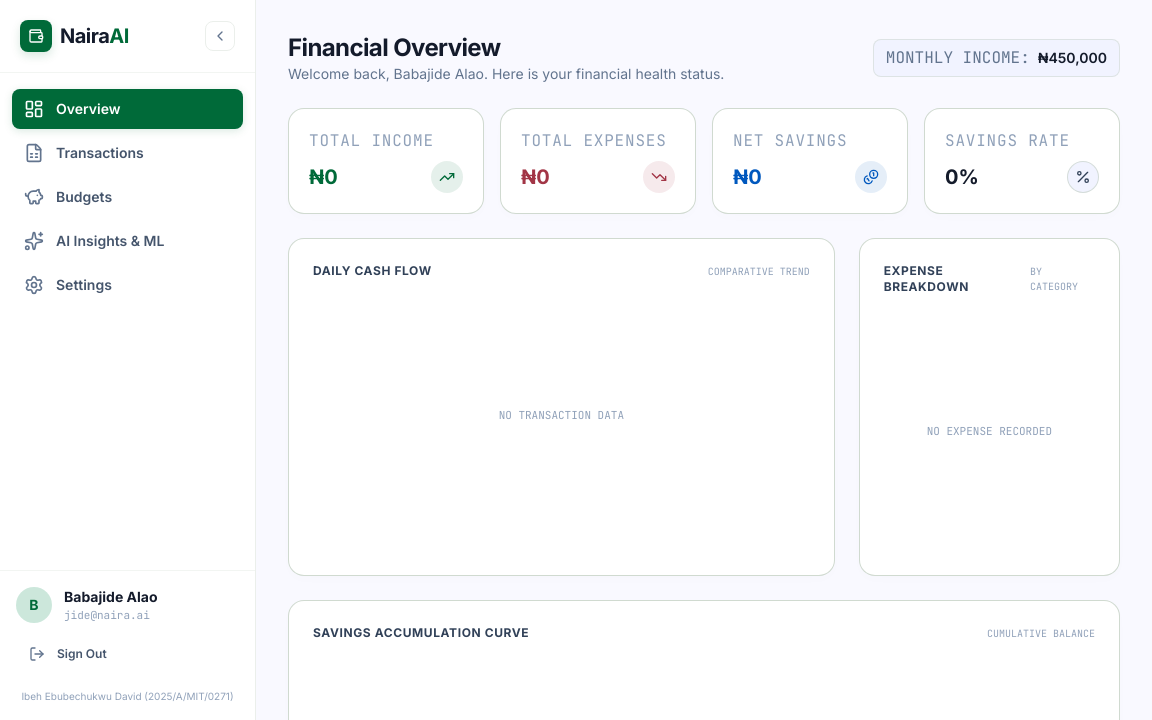
Scenario: Budgets tab › deletes a budget
expect the heading "Financial Overview" is shown: met, box [288,33,500,62]
Click the button "Budgets". click: coordinates (128, 197)
box: [12,177,243,217]
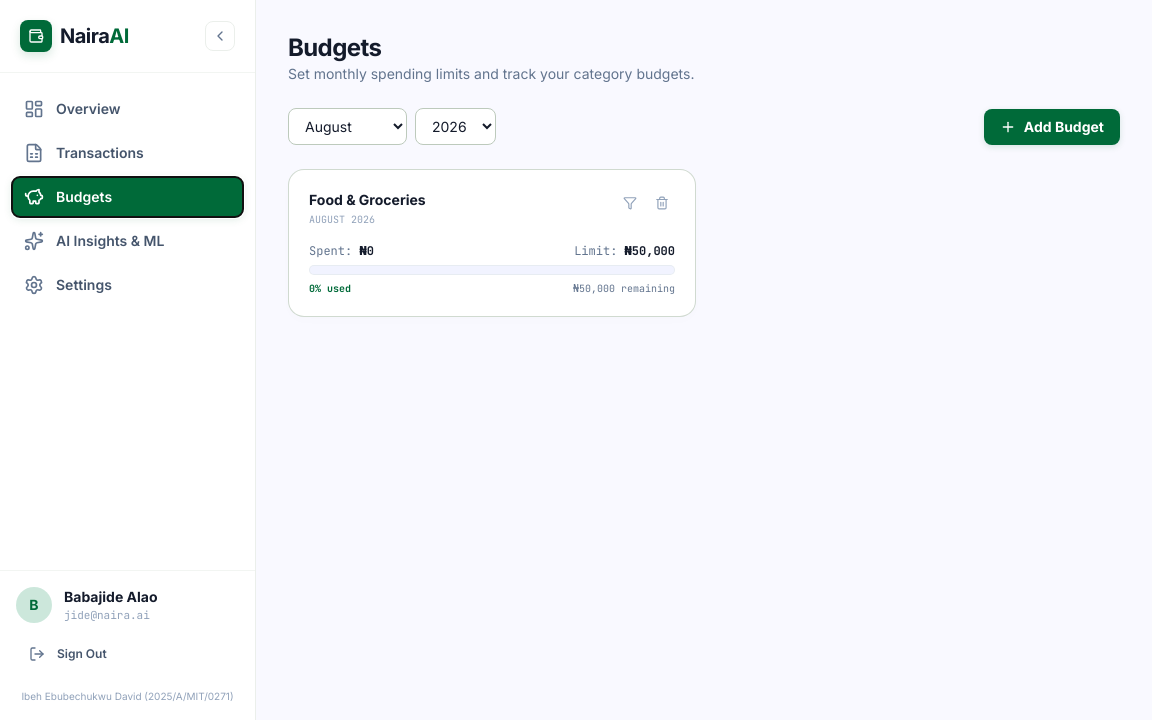
expect the button "Add Budget" is shown: met, box [984,108,1120,144]
expect the text "Food & Groceries" is shown: met, box [309,190,426,210]
Click the button titled "Delete". click: coordinates (662, 203)
box: [649,190,675,216]
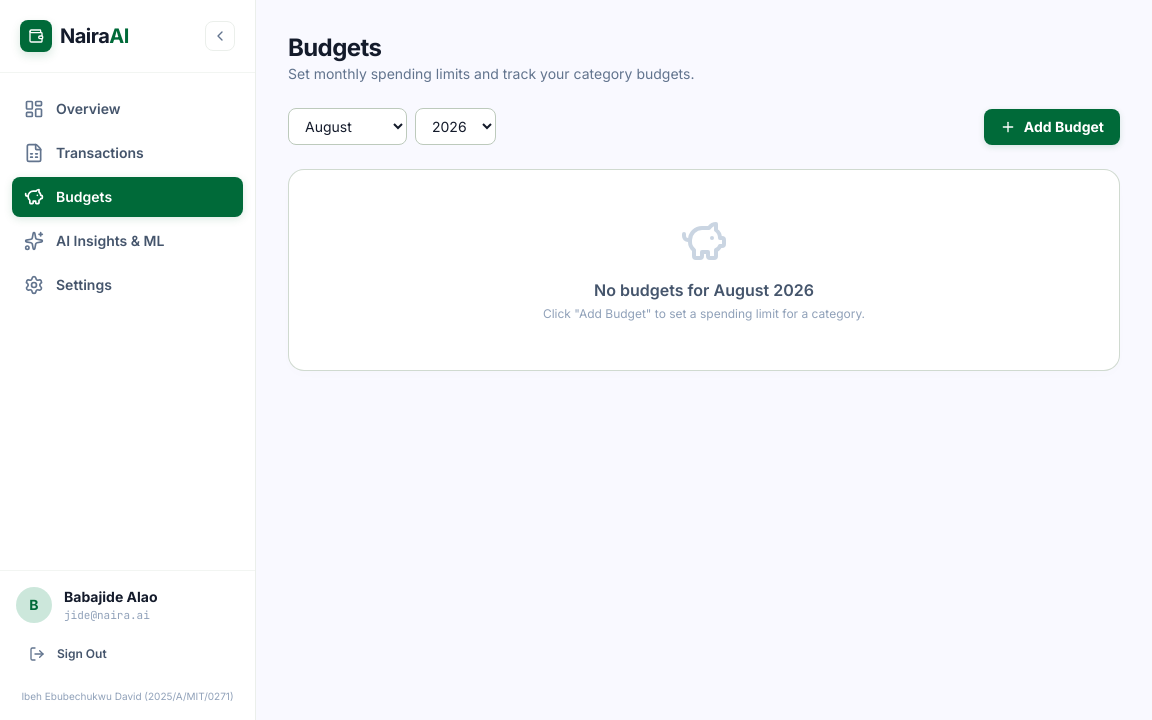
expect the text "No budgets for August 2026" is shown: met, box [594,280,814,300]
